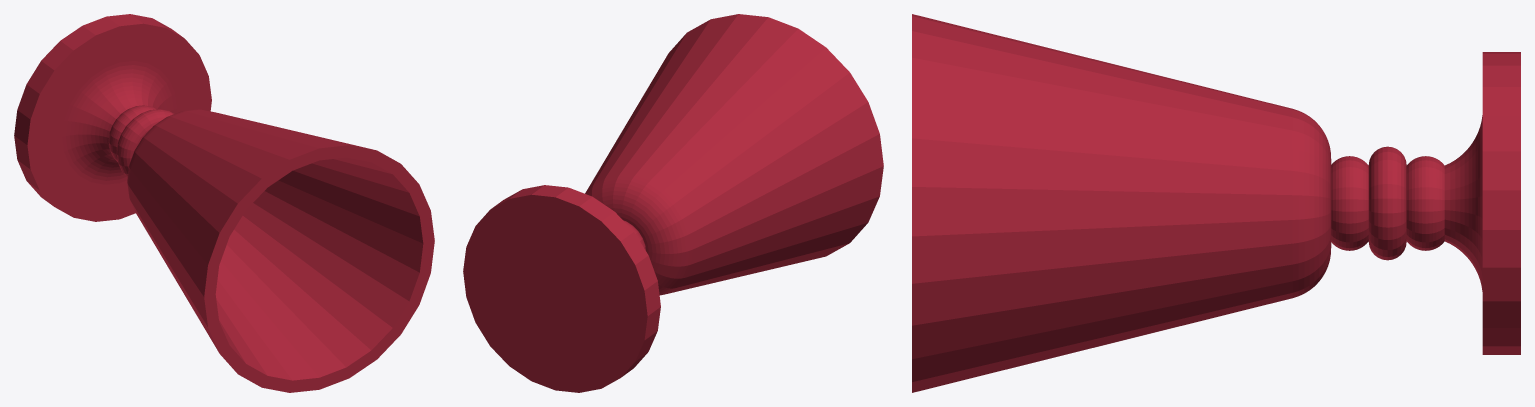
3 renders of one model, left to right at view 1: azimuth 30°, elevation 25°; view 2: azimuth 150°, elevation 25°; view 3: azimuth 270°, elevation 25°, orthographic. The views are drawn at different scales.
Visible parts, largest first — view 1: cup; view 2: cup; view 3: cup.
Boxes of the visible parts, x1,y1,x2,y2 form: cup: (14,14,434,392); cup: (463,14,883,392); cup: (912,14,1520,392).
Bounding box in the file's own units: 3.94 × 3.94 × 6.3.
